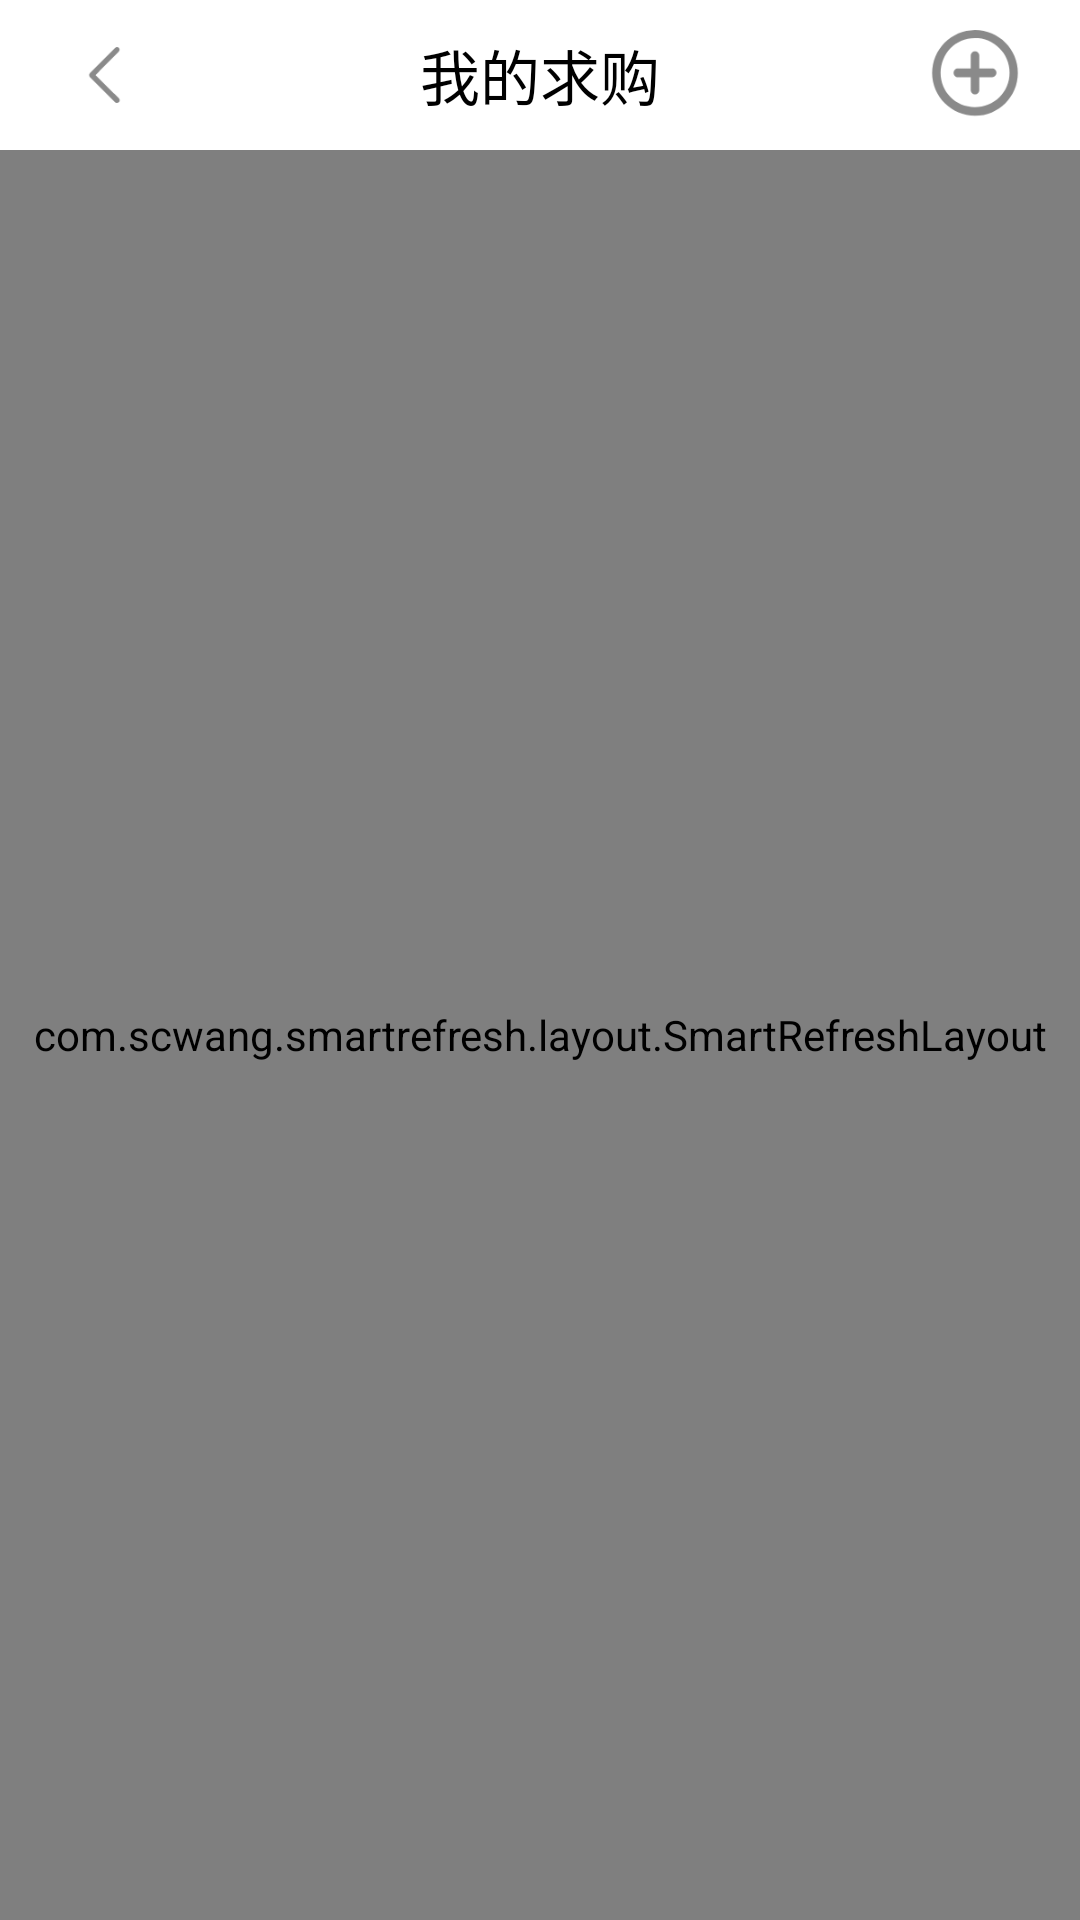

Icons on this 1080px×1920px Android screen, each with its box as [x1,y1,x2,y2]:
add mybuy and mysale: [932,30,1018,116]
arrow back: [89,47,120,103]
